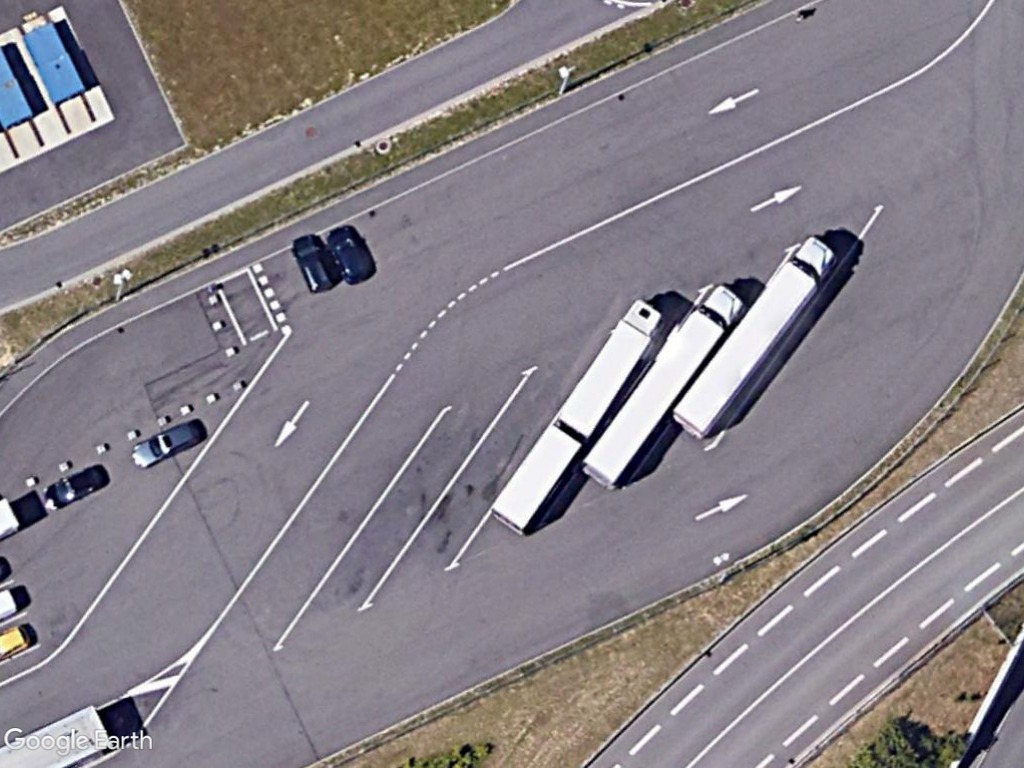car: (126, 418, 205, 471), (289, 231, 341, 296)
longvehicle: (668, 230, 840, 442), (578, 278, 746, 491), (554, 291, 665, 441)
